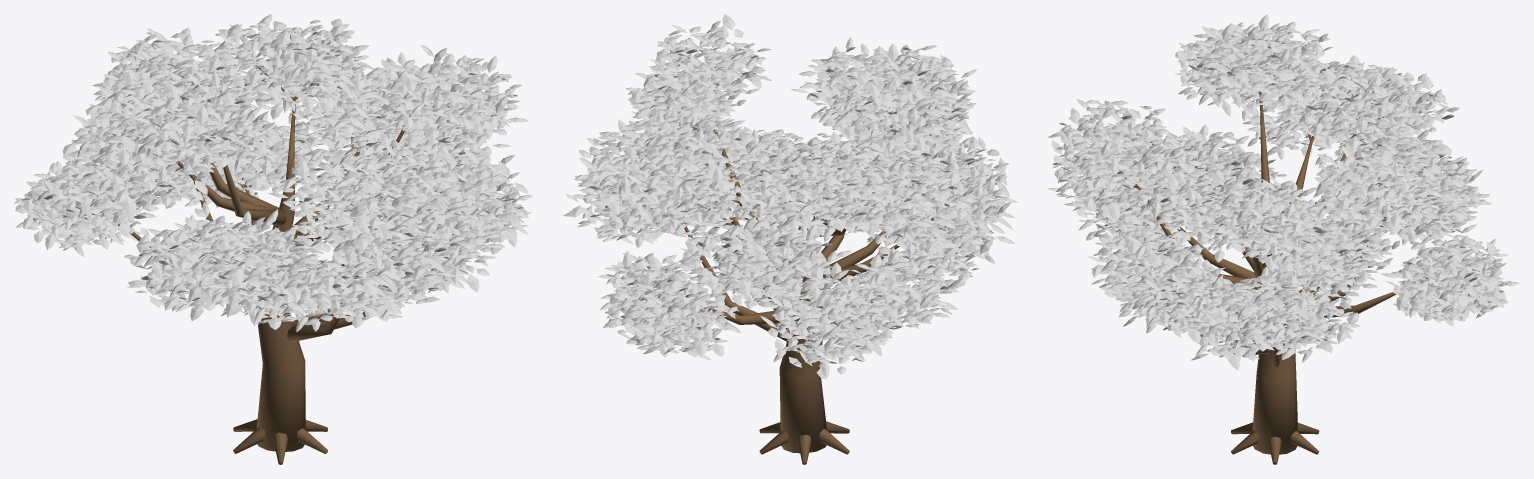
File: tree-2.glb
3 renders of one model, left to right at view 1: azimuth 30°, elevation 25°; view 2: azimuth 150°, elevation 25°; view 3: azimuth 270°, elevation 25°, orthographic. The views are drawn at different scales.
Parts seen in each view (by area): view 1: tree-2 export; view 2: tree-2 export; view 3: tree-2 export.
Boxes of the visible parts, x1,y1,x2,y2 form: tree-2 export: (14, 14, 532, 464); tree-2 export: (563, 14, 1017, 464); tree-2 export: (1047, 14, 1519, 464).
Size of the model in its own units: 10.51 by 9.17 by 10.5.
